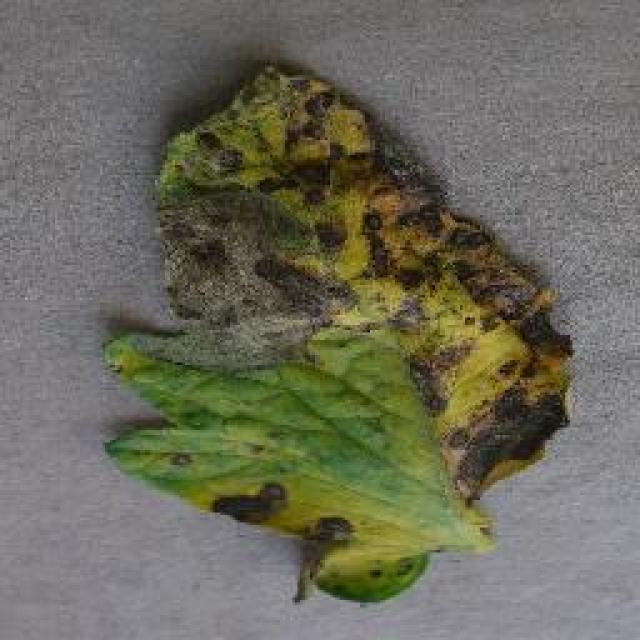Tomato___Early_blight: (96, 58, 576, 612)
